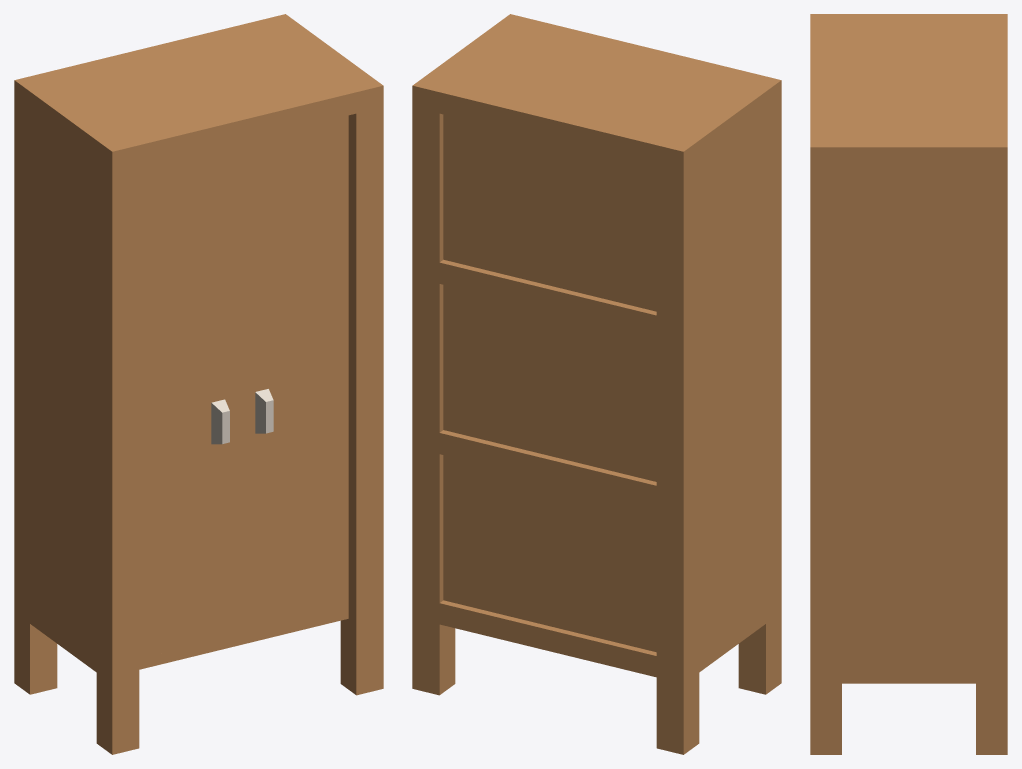
Rendered from kitBookcaseClosedDoors.glb.
3 renders of one model, left to right at view 1: azimuth 30°, elevation 25°; view 2: azimuth 150°, elevation 25°; view 3: azimuth 270°, elevation 25°, orthographic.
Parts seen in each view (by area): view 1: kitBookcaseClosedDoors_wood, kitBookcaseClosedDoors_metal; view 2: kitBookcaseClosedDoors_wood; view 3: kitBookcaseClosedDoors_wood.
Boxes of the visible parts, <box> form: kitBookcaseClosedDoors_wood: <box>14,14,383,754</box>; kitBookcaseClosedDoors_metal: <box>211,389,273,444</box>; kitBookcaseClosedDoors_wood: <box>412,14,781,754</box>; kitBookcaseClosedDoors_wood: <box>810,14,1007,754</box>.
Size of the model in its own units: 0.8 by 1.7 by 0.5.
